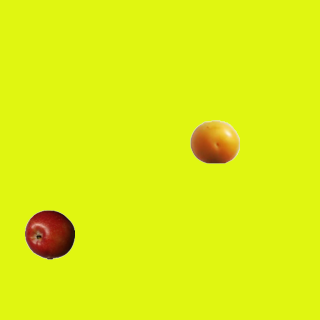Apple Braeburn: (24, 209, 74, 259)
Cherry Wax Yellow: (189, 116, 239, 166)
